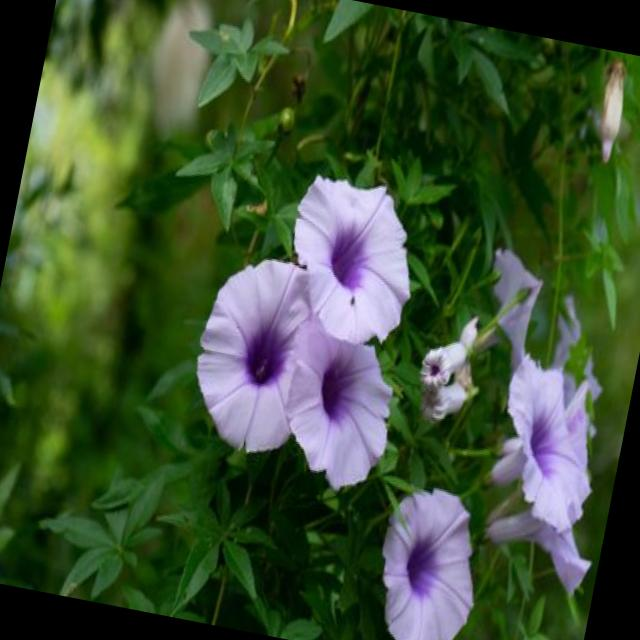ipomoea: (143, 147, 640, 640), (177, 244, 328, 466), (270, 165, 434, 356), (478, 347, 618, 542), (266, 318, 410, 502), (359, 475, 497, 640)
